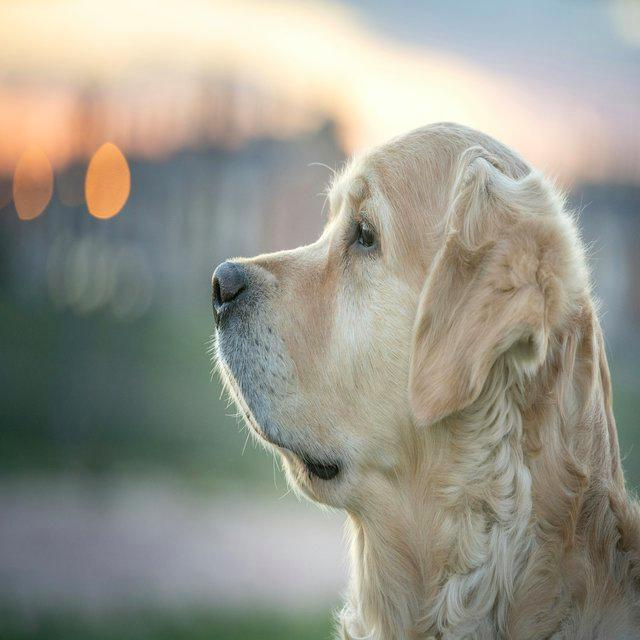retriever: (207, 119, 640, 638)
